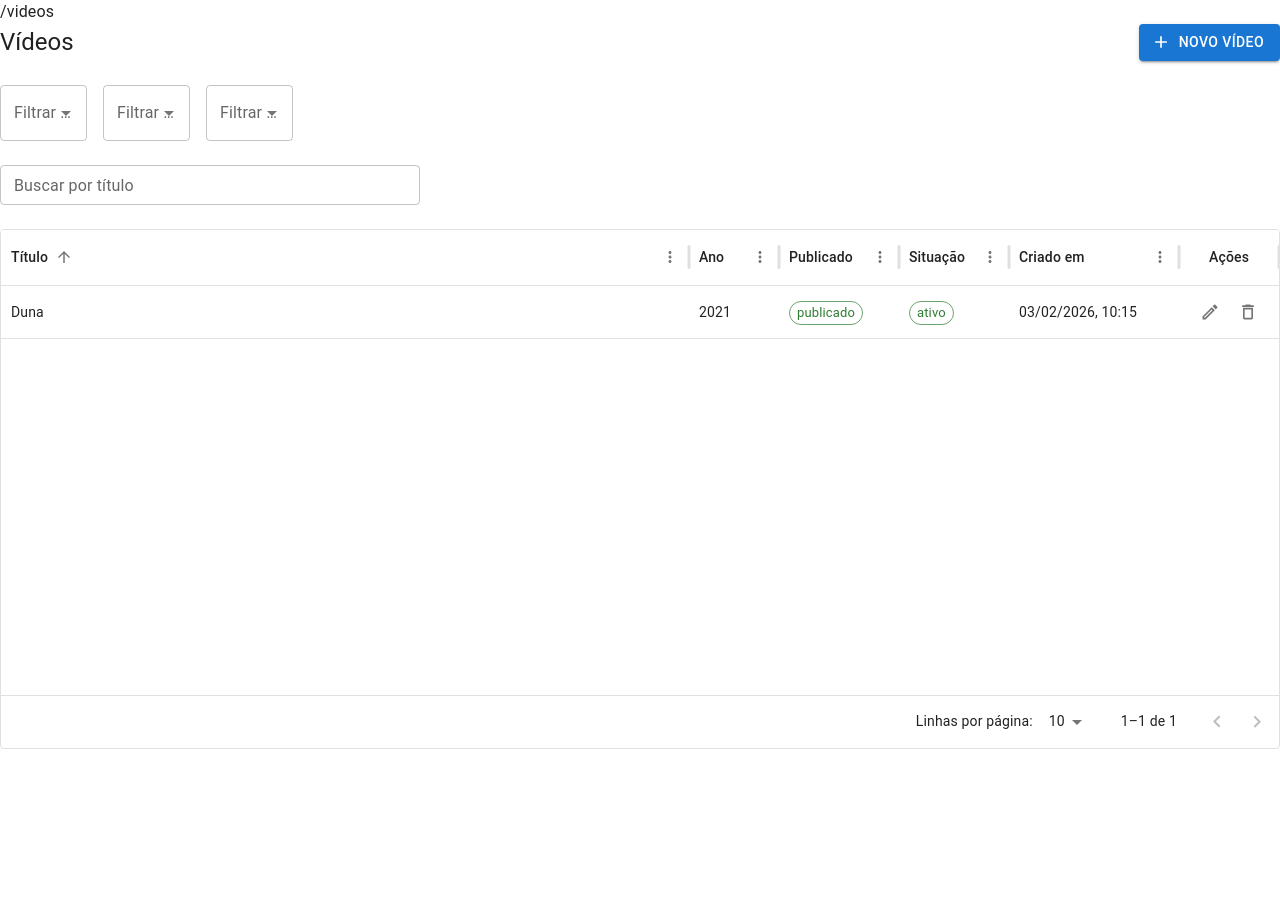
Test: VideoList › givenAPerguntaAberta_whenConfirma_thenChamaODelete
Expected: the text "Duna" is shown, [11,304,44,320]
Click the menu item named "Remover": (1248, 312) [1233,297,1263,327]
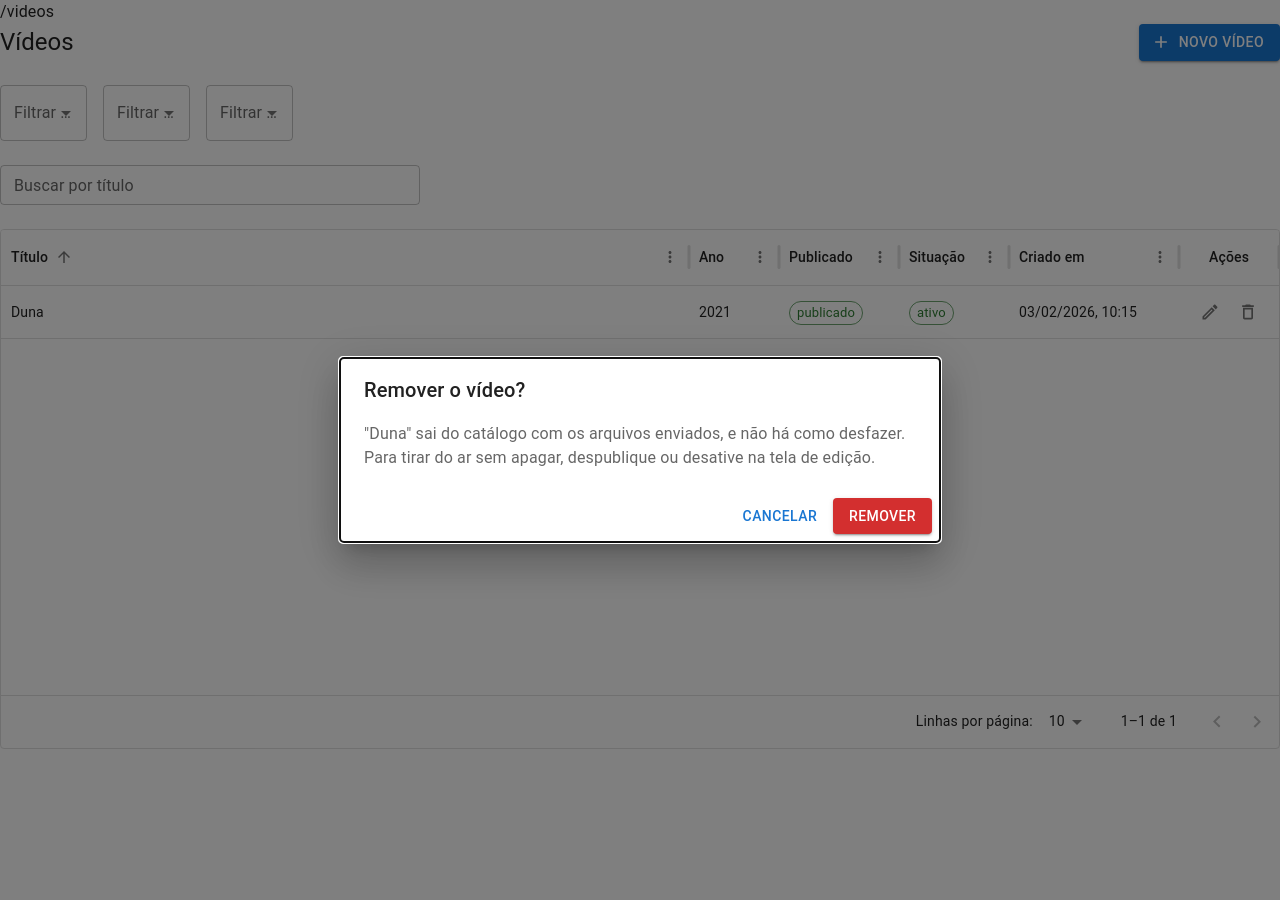
Click the button "Remover": (882, 516) [833,498,932,534]
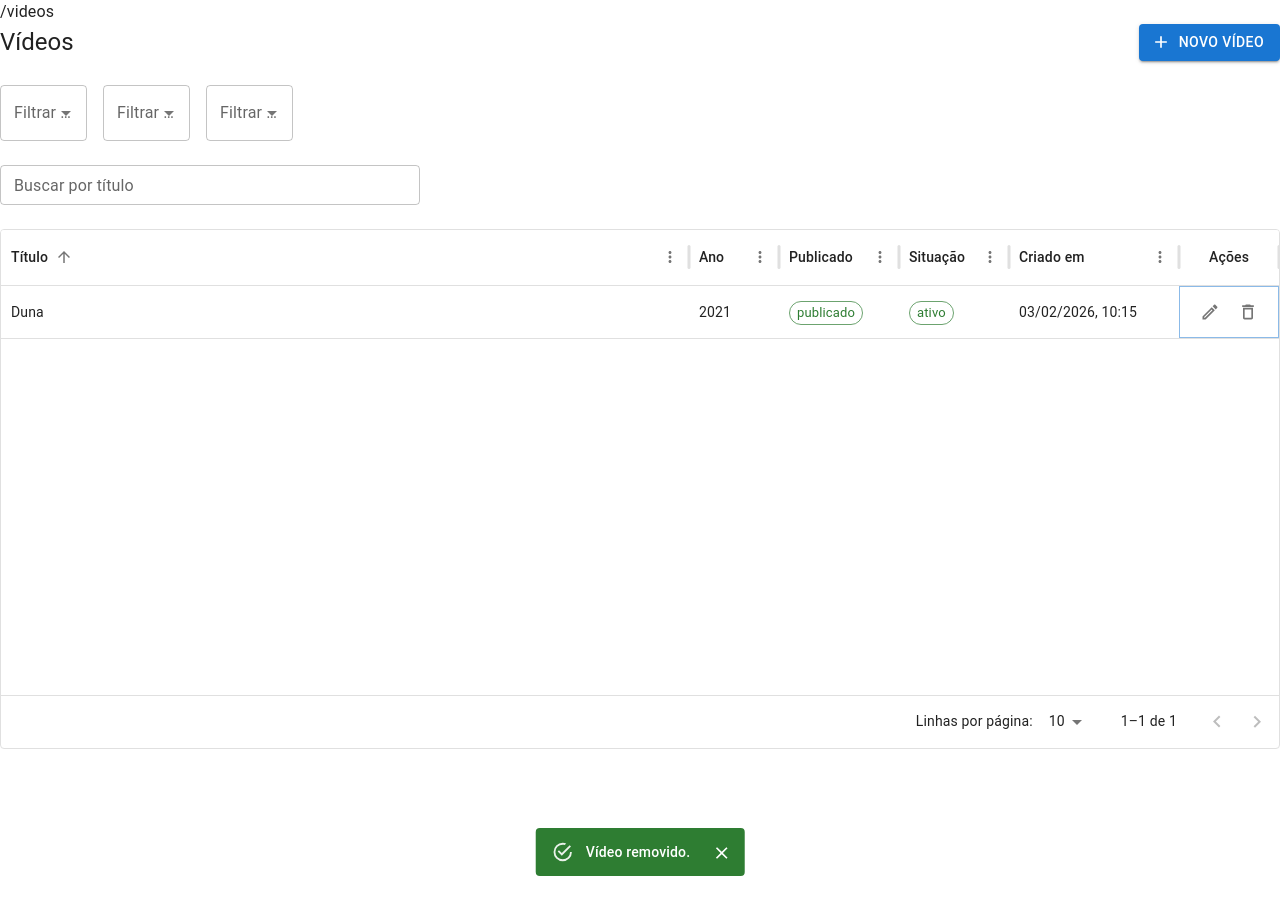
Expected: the text "Vídeo removido." is shown, [586,844,690,860]
